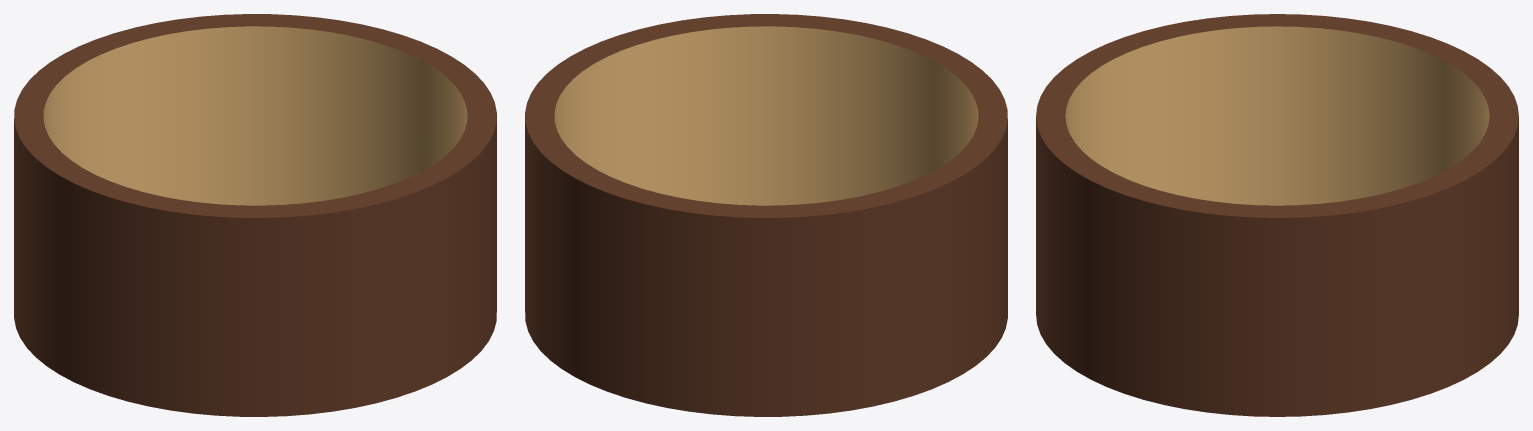
File: SM_Env_TapeRoll.fbx
3 views of the same model, side by side, from view 1: azimuth 30°, elevation 25°; view 2: azimuth 150°, elevation 25°; view 3: azimuth 270°, elevation 25° (orthographic).
Parts seen in each view (by area): view 1: TapeRoll; view 2: TapeRoll; view 3: TapeRoll.
Boxes of the visible parts, x1,y1,x2,y2 form: TapeRoll: (14,14,496,416); TapeRoll: (525,14,1007,416); TapeRoll: (1036,14,1518,416).
Size of the model in its own units: 0.11 by 0.05 by 0.11.
